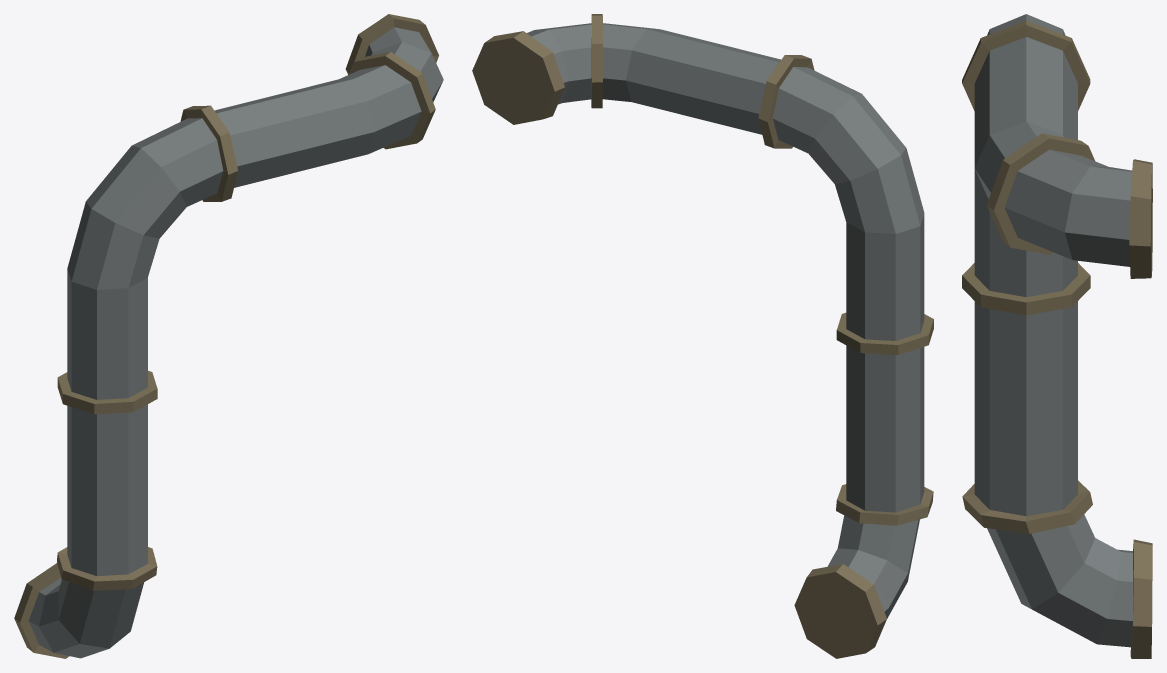
The model's file is tuberia_2.fbx.
The picture shows the model from 3 angles, left to right: view 1: azimuth 30°, elevation 25°; view 2: azimuth 150°, elevation 25°; view 3: azimuth 270°, elevation 25°; orthographic projection. The views are drawn at different scales.
Visible parts, largest first — view 1: Tuberia.001; view 2: Tuberia.001; view 3: Tuberia.001.
Part boxes in pixels (x1,y1,x2,y2): Tuberia.001: (14, 14, 443, 658); Tuberia.001: (472, 14, 933, 658); Tuberia.001: (962, 14, 1152, 658).
Size of the model in its own units: 290 by 370 by 91.87.
